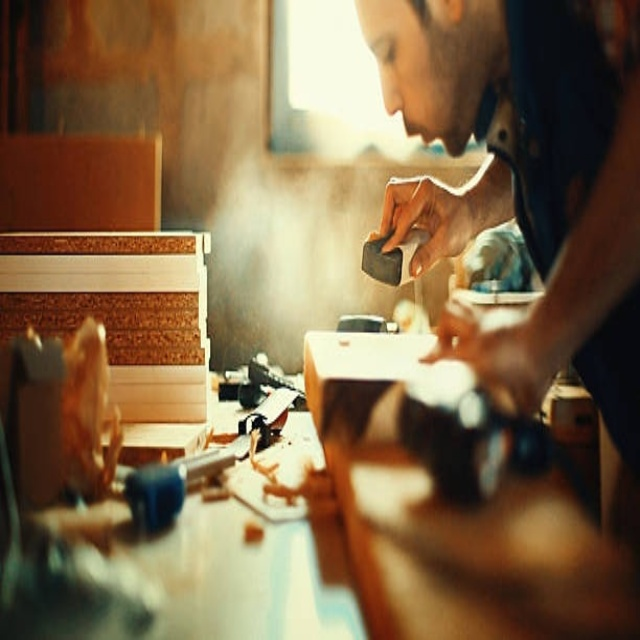Sin_gafas: (369, 6, 408, 79)
Sin_guantes: (423, 304, 542, 422), (371, 170, 477, 279)
Sin_mascara: (401, 106, 462, 160)
